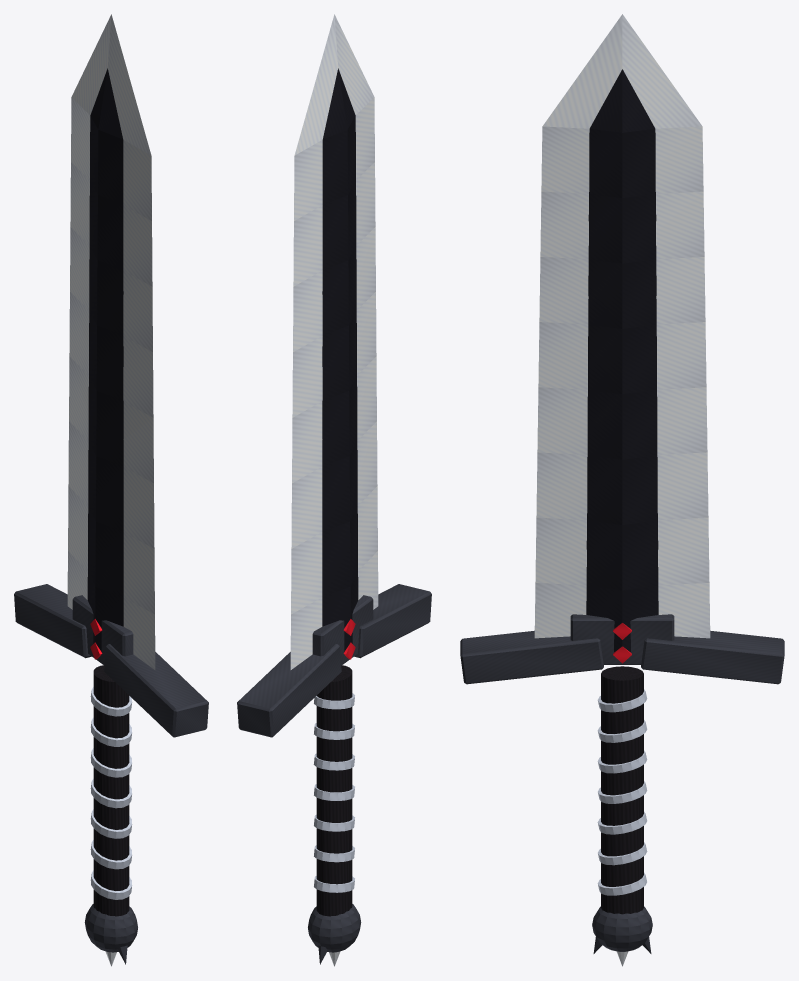
The model's file is Greatsword.fbx.
The picture shows the model from 3 angles, left to right: view 1: azimuth 30°, elevation 25°; view 2: azimuth 150°, elevation 25°; view 3: azimuth 270°, elevation 25°; orthographic projection.
Parts seen in each view (by area): view 1: Greatsword; view 2: Greatsword; view 3: Greatsword.
Part boxes in pixels (x1=…): Greatsword: x1=14, y1=14, x2=208, y2=966; Greatsword: x1=237, y1=14, x2=431, y2=966; Greatsword: x1=460, y1=14, x2=784, y2=966.
Bounding box in the file's own units: 44.01 × 932 × 287.
Materials: 1 (1 with a texture image).
